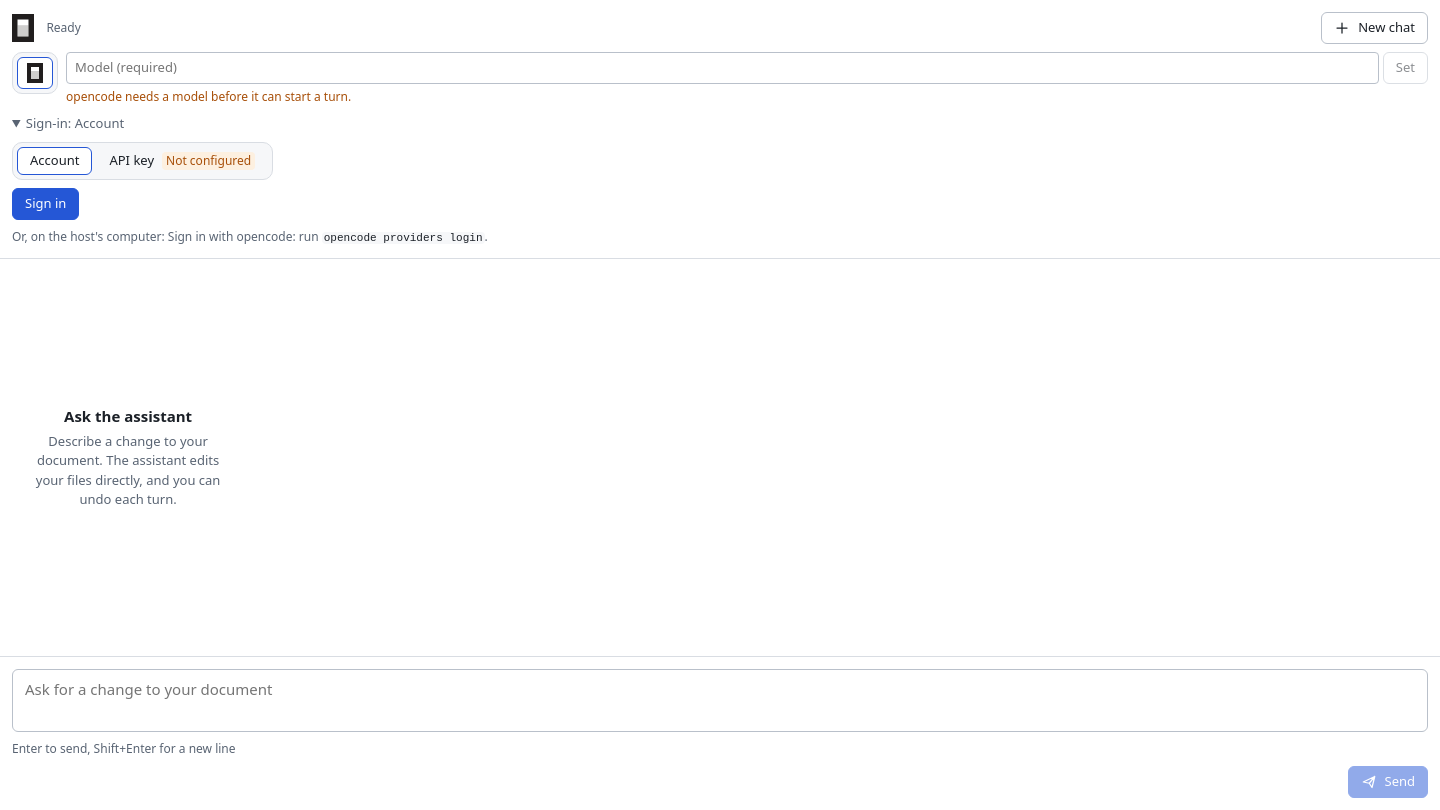
it: the masked key form › asks for a provider/model name instead of showing a field when opencode has no usable vendor
The width and height of the screenshot is (1440, 810).
Step 1. Click the radio button labelled "API key" → coordinates (182, 160), box [96, 146, 268, 174]
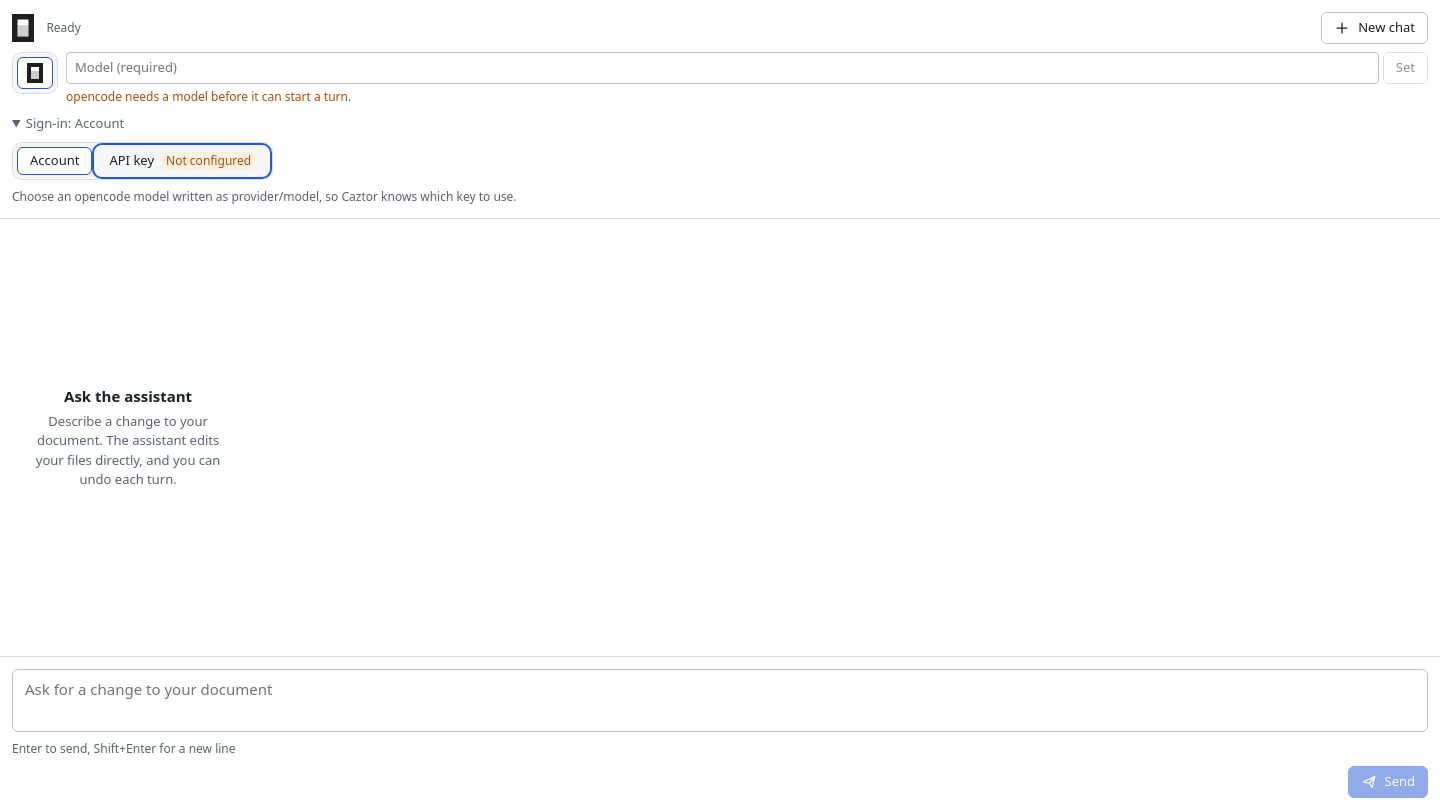
Now the text "provider/model, so Caztor knows which key" is shown, box [12, 188, 516, 204]
